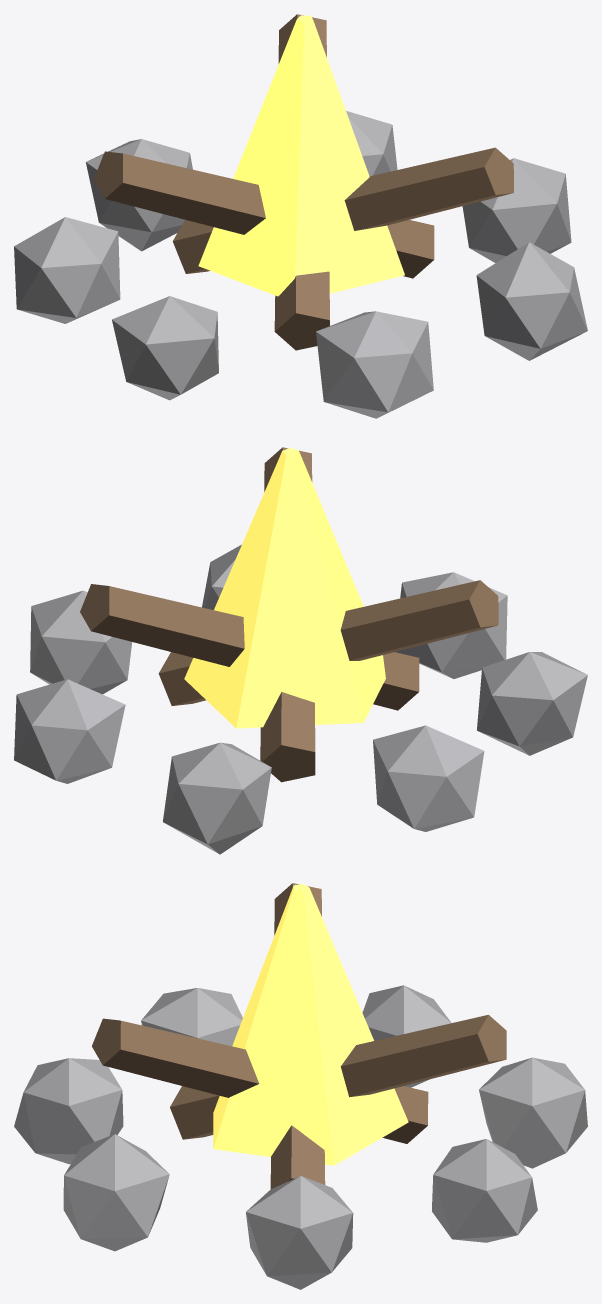
The model's file is campfire.glb.
The picture shows the model from 3 angles, top to bottom: view 1: azimuth 30°, elevation 25°; view 2: azimuth 150°, elevation 25°; view 3: azimuth 270°, elevation 25°; orthographic projection.
Parts seen in each view (by area): view 1: campfire; view 2: campfire; view 3: campfire.
Boxes of the visible parts, left/top/right/bottom form: campfire: left=14, top=14, right=587, bottom=418; campfire: left=14, top=447, right=587, bottom=854; campfire: left=14, top=883, right=587, bottom=1289.
Bounding box in the file's own units: 1.31 × 0.7753 × 1.33.
